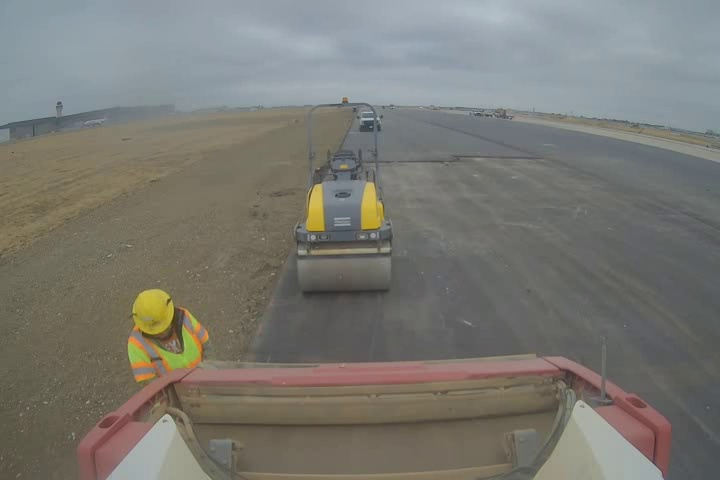person: (122, 288, 212, 383)
vehicle: (74, 351, 671, 479), (295, 103, 392, 293), (354, 109, 382, 136)
vest: (125, 309, 207, 382)
yellow_helmet: (128, 291, 174, 344)
